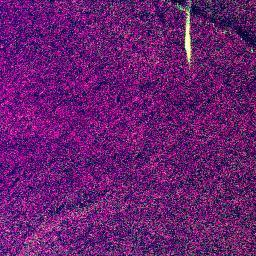Ship: (181, 17, 197, 62)
